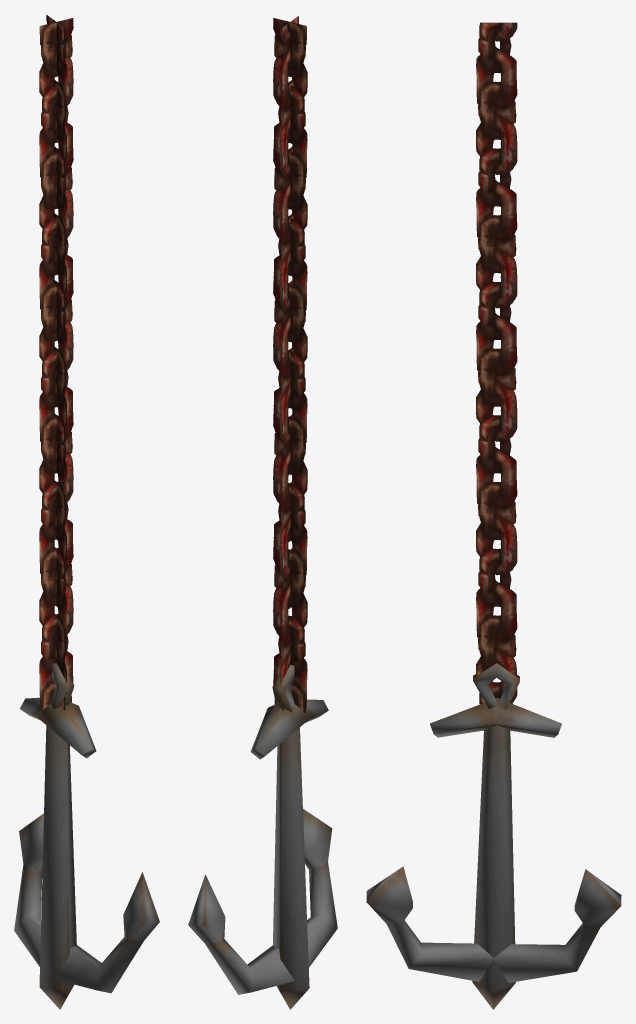
Rendered from bootyanchor.obj.
The picture shows the model from 3 angles, left to right: view 1: azimuth 30°, elevation 25°; view 2: azimuth 150°, elevation 25°; view 3: azimuth 270°, elevation 25°; orthographic projection.
Visible parts, largest first — view 1: Geoset0, Geoset1; view 2: Geoset0, Geoset1; view 3: Geoset0, Geoset1.
Part boxes in pixels (x1=…): Geoset0: x1=39, y1=14, x2=73, y2=711; Geoset1: x1=14, y1=663, x2=159, y2=1009; Geoset0: x1=273, y1=16, x2=307, y2=713; Geoset1: x1=188, y1=665, x2=337, y2=1009; Geoset0: x1=476, y1=22, x2=517, y2=704; Geoset1: x1=366, y1=663, x2=621, y2=1009.
Size of the model in its own units: 1.41 by 21.82 by 5.11.
Materials: 2 (2 with a texture image).
